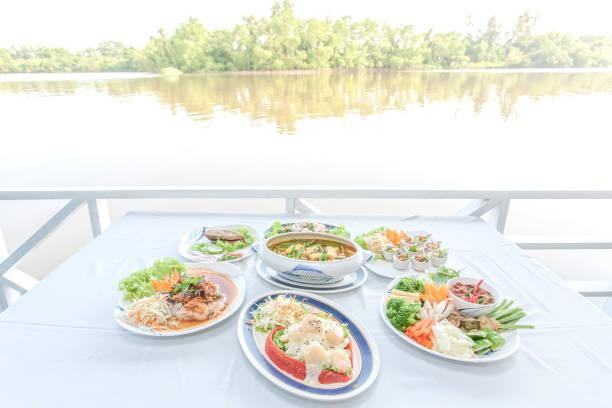Braised Crucian Carp: (238, 289, 379, 400), (378, 272, 520, 365), (112, 260, 244, 337), (253, 234, 368, 292), (360, 229, 450, 279)
